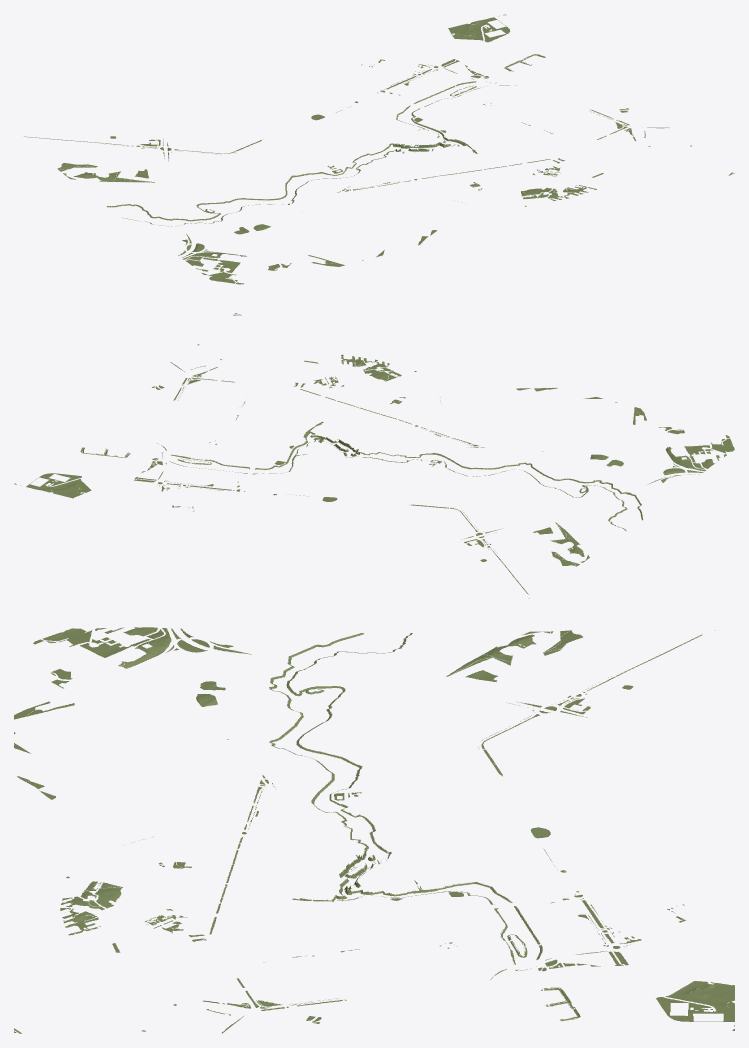
File: peking_markvegetation.glb
The picture shows the model from 3 angles, top to bottom: view 1: azimuth 30°, elevation 25°; view 2: azimuth 150°, elevation 25°; view 3: azimuth 270°, elevation 25°; orthographic projection. The views are drawn at different scales.
Parts seen in each view (by area): view 1: Markvegetation_0_8, Markvegetation_12_0; view 2: Markvegetation_12_0, Markvegetation_0_8; view 3: Markvegetation_12_0, Markvegetation_0_8, Markvegetation_11_0, Markvegetation_9_9, Markvegetation_0_9.
Boxes of the visible parts, <box> form: Markvegetation_0_8: <box>183,251,239,274</box>; Markvegetation_12_0: <box>462,17,510,40</box>; Markvegetation_12_0: <box>26,473,80,494</box>; Markvegetation_0_8: <box>671,446,725,471</box>; Markvegetation_12_0: <box>663,995,734,1021</box>; Markvegetation_0_8: <box>98,627,168,658</box>; Markvegetation_11_0: <box>668,981,733,996</box>; Markvegetation_9_9: <box>60,898,98,930</box>; Markvegetation_0_9: <box>33,628,98,654</box>.
Bounding box in the file's own units: 3340 × 56.45 × 2550.
